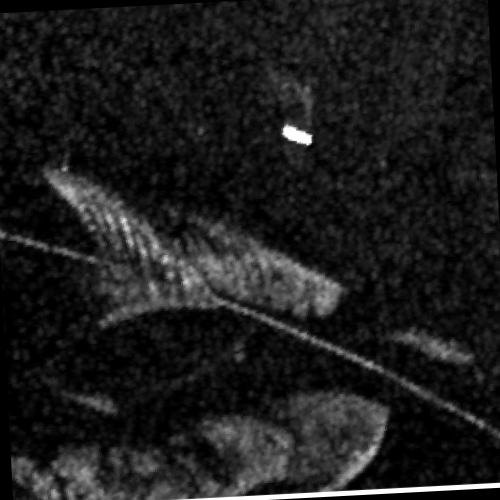ship: (282, 124, 312, 146)
